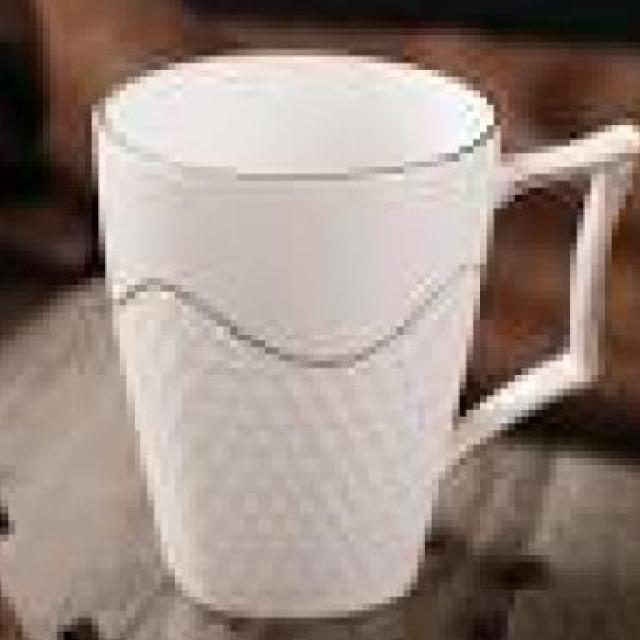cup: (85, 35, 640, 624)
